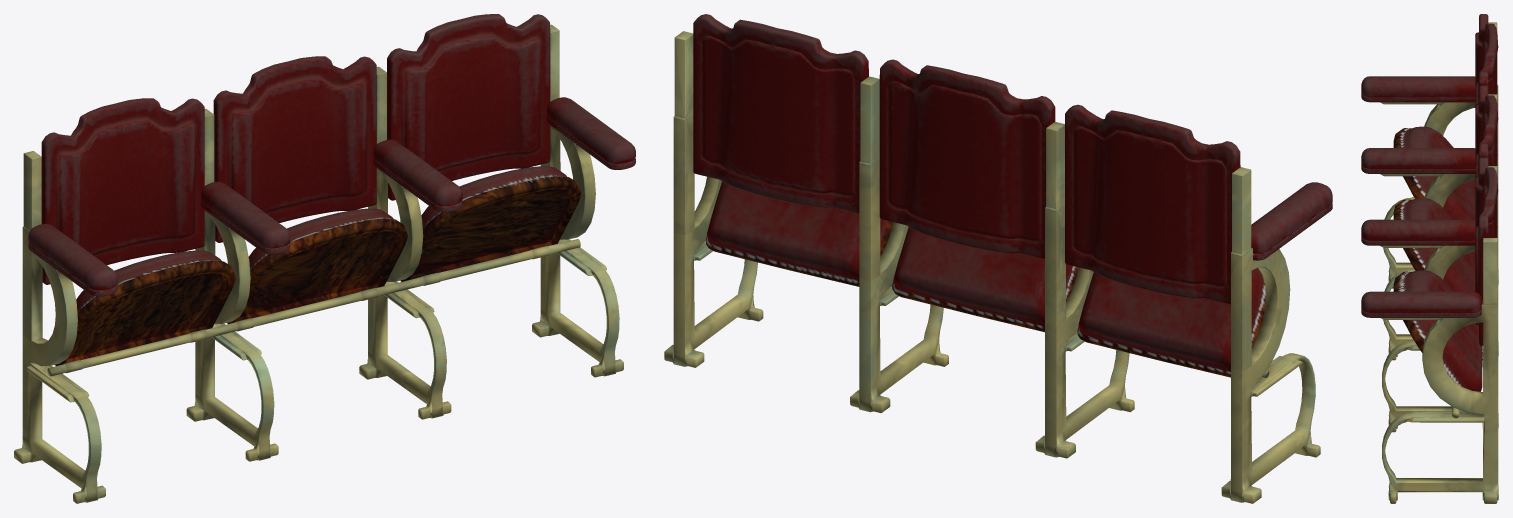
The picture shows the model from 3 angles, left to right: view 1: azimuth 30°, elevation 25°; view 2: azimuth 150°, elevation 25°; view 3: azimuth 270°, elevation 25°; orthographic projection. The views are drawn at different scales.
Parts seen in each view (by area): view 1: Group21606; view 2: Group21606; view 3: Group21606.
Part boxes in pixels (x1,y1,x2,y2): Group21606: (14, 14, 635, 503); Group21606: (664, 14, 1332, 503); Group21606: (1361, 14, 1498, 503).
Size of the model in its own units: 200 by 116 by 50.98.
1 material, 1 textured.
